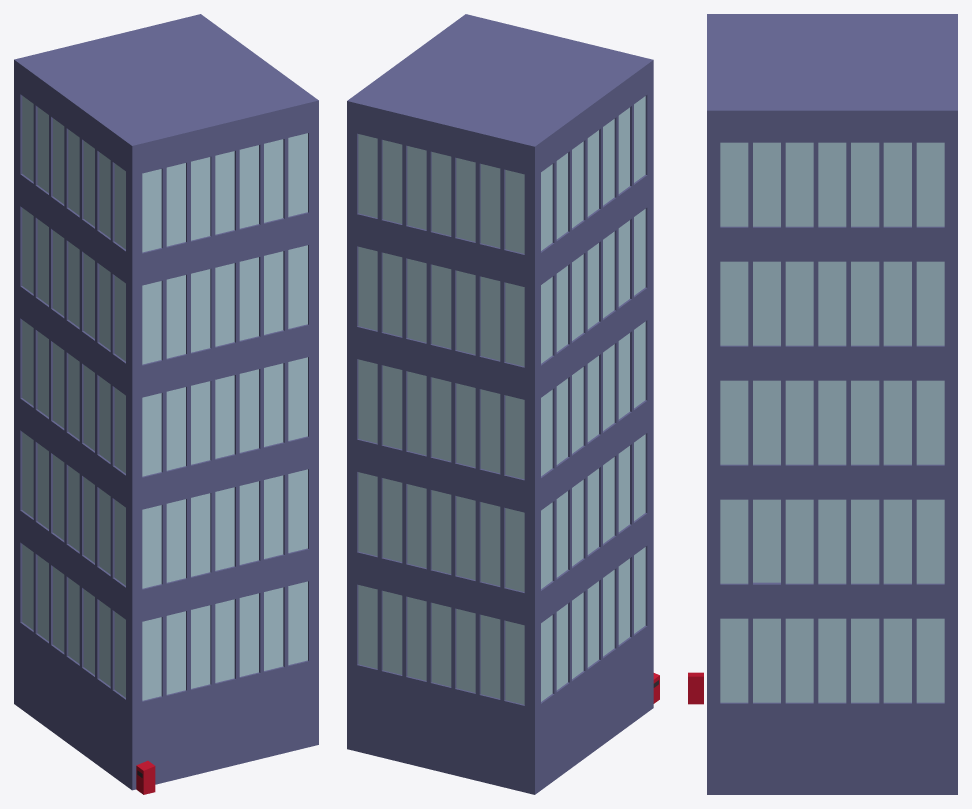
File: 建筑物12.fbx
The picture shows the model from 3 angles, left to right: view 1: azimuth 30°, elevation 25°; view 2: azimuth 150°, elevation 25°; view 3: azimuth 270°, elevation 25°; orthographic projection. The views are drawn at different scales.
Visible parts, largest first — view 1: 桶8_1; view 2: 桶8_1; view 3: 桶8_1.
Part boxes in pixels (box(x1,y1,x2,y2)): 桶8_1: box(14, 14, 318, 794); 桶8_1: box(347, 14, 659, 794); 桶8_1: box(688, 14, 957, 794).
Bounding box in the file's own units: 990 × 3265 × 1167.
